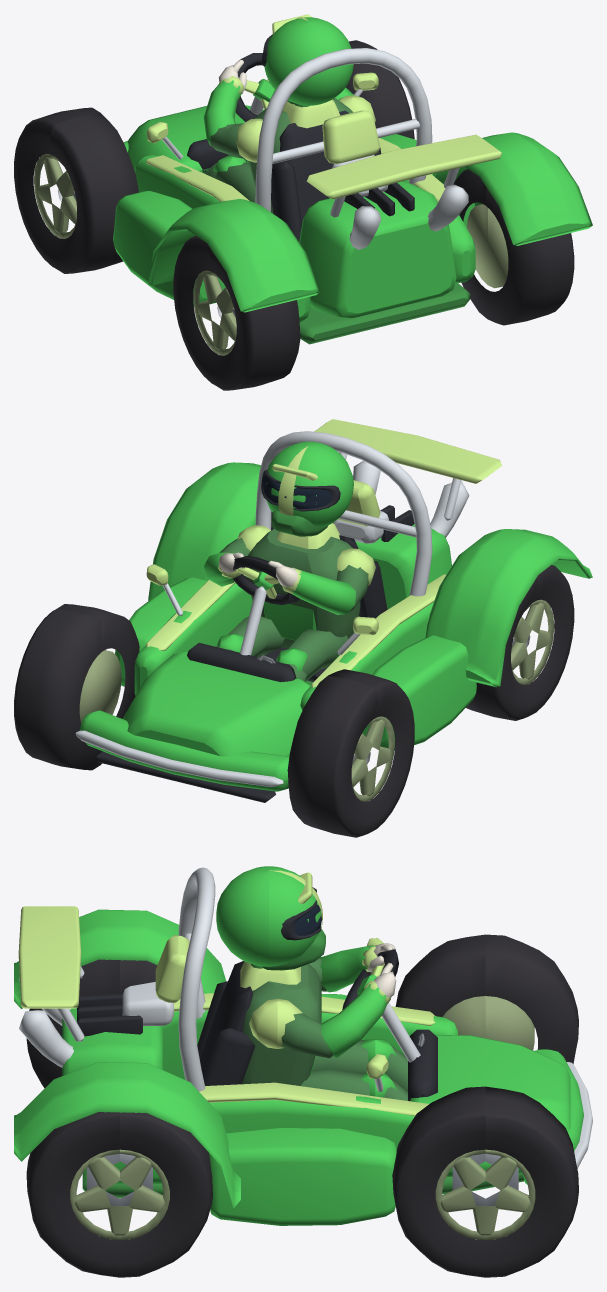
Rendered from kart_2.glb.
The picture shows the model from 3 angles, top to bottom: view 1: azimuth 30°, elevation 25°; view 2: azimuth 150°, elevation 25°; view 3: azimuth 270°, elevation 25°; orthographic projection. The views are drawn at different scales.
Visible parts, largest first — view 1: bodyPaint, bodyFenders, WheelFL_tyre, WheelRL_tyre, WheelRR_tyre, bodyChrome, bodyPlastic, driverHelmet, driverArms, driverTorso, WheelFR_tyre, steeringWheel; view 2: bodyPaint, bodyFenders, WheelFL_tyre, WheelFR_tyre, bodyChrome, driverTorso, WheelRL_tyre, driverHelmet, bodyPlastic, driverArms, steeringWheel, driverVisor; view 3: bodyPaint, WheelFR_tyre, WheelRR_tyre, bodyFenders, WheelFL_tyre, bodyChrome, driverTorso, bodyPlastic, driverHelmet, driverArms, WheelRL_tyre, steeringWheel (+1 smaller).
Part boxes in pixels (bbox=[...]): bodyPaint: bbox=[113, 72, 501, 322]; bodyFenders: bbox=[148, 132, 592, 312]; WheelFL_tyre: bbox=[14, 107, 138, 273]; WheelRL_tyre: bbox=[173, 236, 300, 390]; WheelRR_tyre: bbox=[453, 169, 574, 325]; bodyChrome: bbox=[162, 48, 468, 249]; bodyPlastic: bbox=[187, 110, 470, 344]; driverHelmet: bbox=[261, 14, 353, 105]; driverArms: bbox=[203, 59, 375, 162]; driverTorso: bbox=[207, 98, 352, 213]; WheelFR_tyre: bbox=[346, 40, 414, 139]; steeringWheel: bbox=[235, 53, 275, 121]; bodyPaint: bbox=[80, 419, 501, 791]; bodyFenders: bbox=[148, 462, 592, 687]; WheelFL_tyre: bbox=[287, 669, 414, 837]; WheelFR_tyre: bbox=[14, 604, 139, 770]; bodyChrome: bbox=[75, 431, 469, 786]; driverTorso: bbox=[216, 523, 360, 681]; WheelRL_tyre: bbox=[466, 565, 574, 720]; driverHelmet: bbox=[261, 441, 353, 536]; bodyPlastic: bbox=[96, 505, 414, 802]; driverArms: bbox=[203, 525, 375, 614]; steeringWheel: bbox=[232, 556, 299, 604]; driverVisor: bbox=[263, 475, 331, 508]; bodyPaint: bbox=[18, 906, 583, 1225]; WheelFR_tyre: bbox=[392, 1086, 578, 1277]; WheelRR_tyre: bbox=[26, 1112, 212, 1277]; bodyFenders: bbox=[14, 909, 240, 1208]; WheelFL_tyre: bbox=[395, 934, 578, 1063]; bodyChrome: bbox=[19, 867, 592, 1168]; driverTorso: bbox=[240, 961, 407, 1100]; bodyPlastic: bbox=[77, 961, 524, 1198]; driverHelmet: bbox=[216, 866, 325, 970]; driverArms: bbox=[249, 943, 396, 1058]; WheelRL_tyre: bbox=[26, 959, 157, 1088]; steeringWheel: bbox=[342, 949, 398, 1009].
Size of the model in its own units: 1.86 by 1.43 by 2.31.
